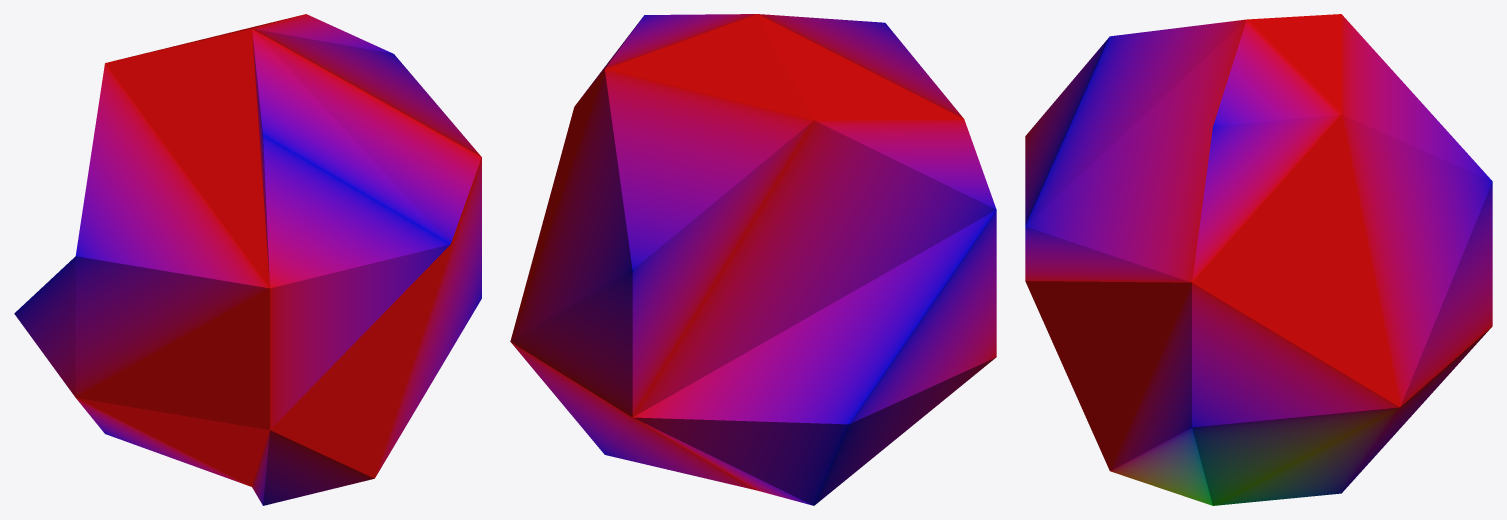
Rendered from after_decimating_conquest_1_27.obj.
The picture shows the model from 3 angles, left to right: view 1: azimuth 30°, elevation 25°; view 2: azimuth 150°, elevation 25°; view 3: azimuth 270°, elevation 25°; orthographic projection. The views are drawn at different scales.
Size of the model in its own units: 1.85 by 2 by 1.81.
